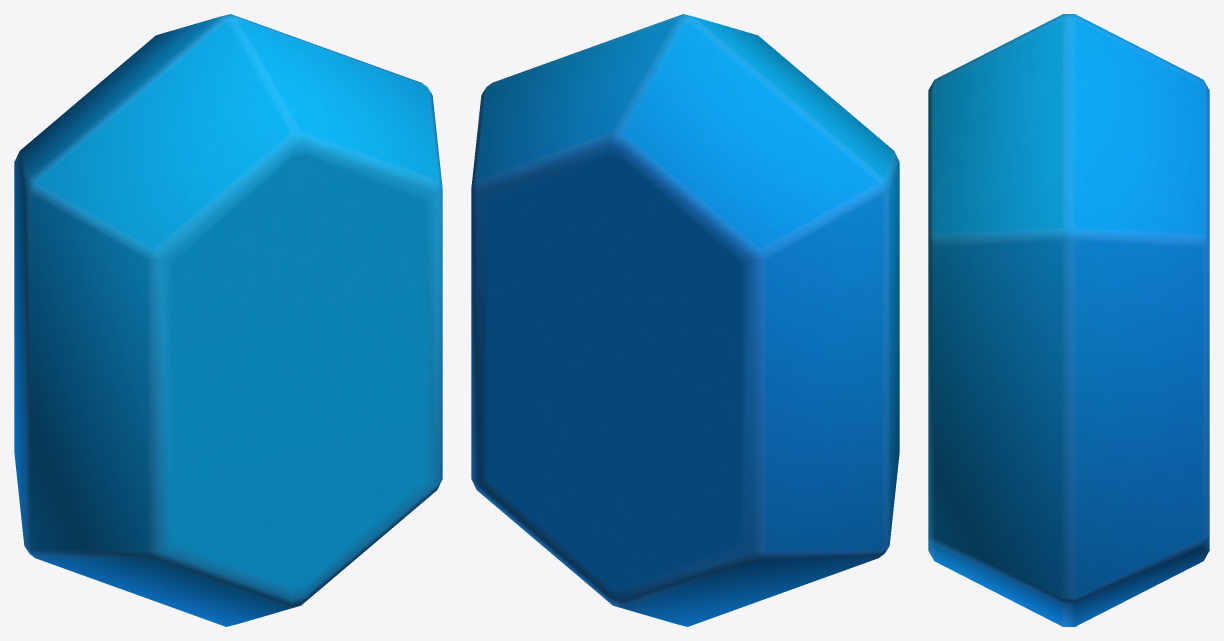
The model's file is gem-blue.glb.
3 renders of one model, left to right at view 1: azimuth 30°, elevation 25°; view 2: azimuth 150°, elevation 25°; view 3: azimuth 270°, elevation 25°, orthographic.
Visible parts, largest first — view 1: Gem02_Blue; view 2: Gem02_Blue; view 3: Gem02_Blue.
Part boxes in pixels (left/top/right/bottom): Gem02_Blue: left=14, top=14, right=442, bottom=626; Gem02_Blue: left=471, top=14, right=899, bottom=626; Gem02_Blue: left=928, top=14, right=1209, bottom=626.
Bounding box in the file's own units: 0.2189 × 0.315 × 0.1323.
Materials: 1 (1 with a texture image).
